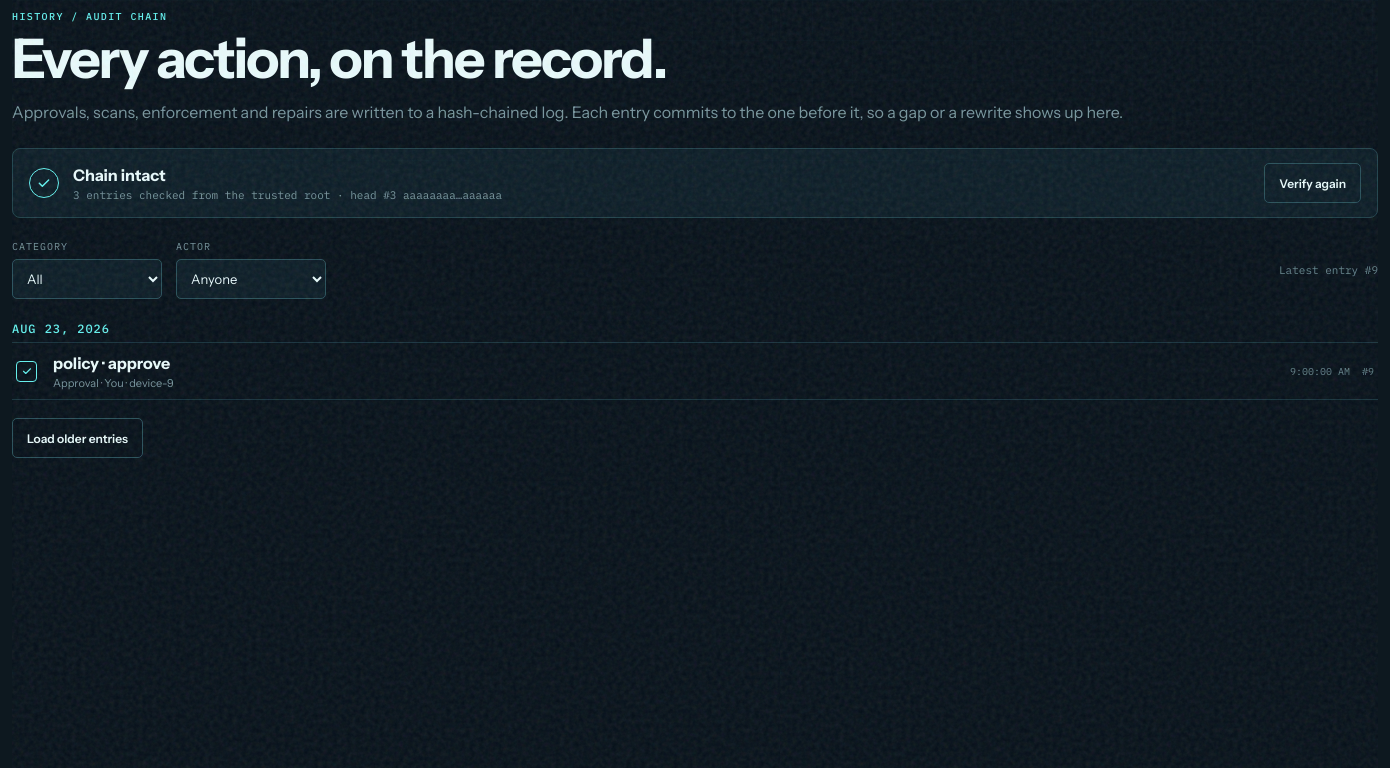
HistoryView › pages older entries with the cursor and keeps the filter
Click the button "Load older entries". click: (78, 438)
box: top-left (12, 418), bottom-right (143, 458)
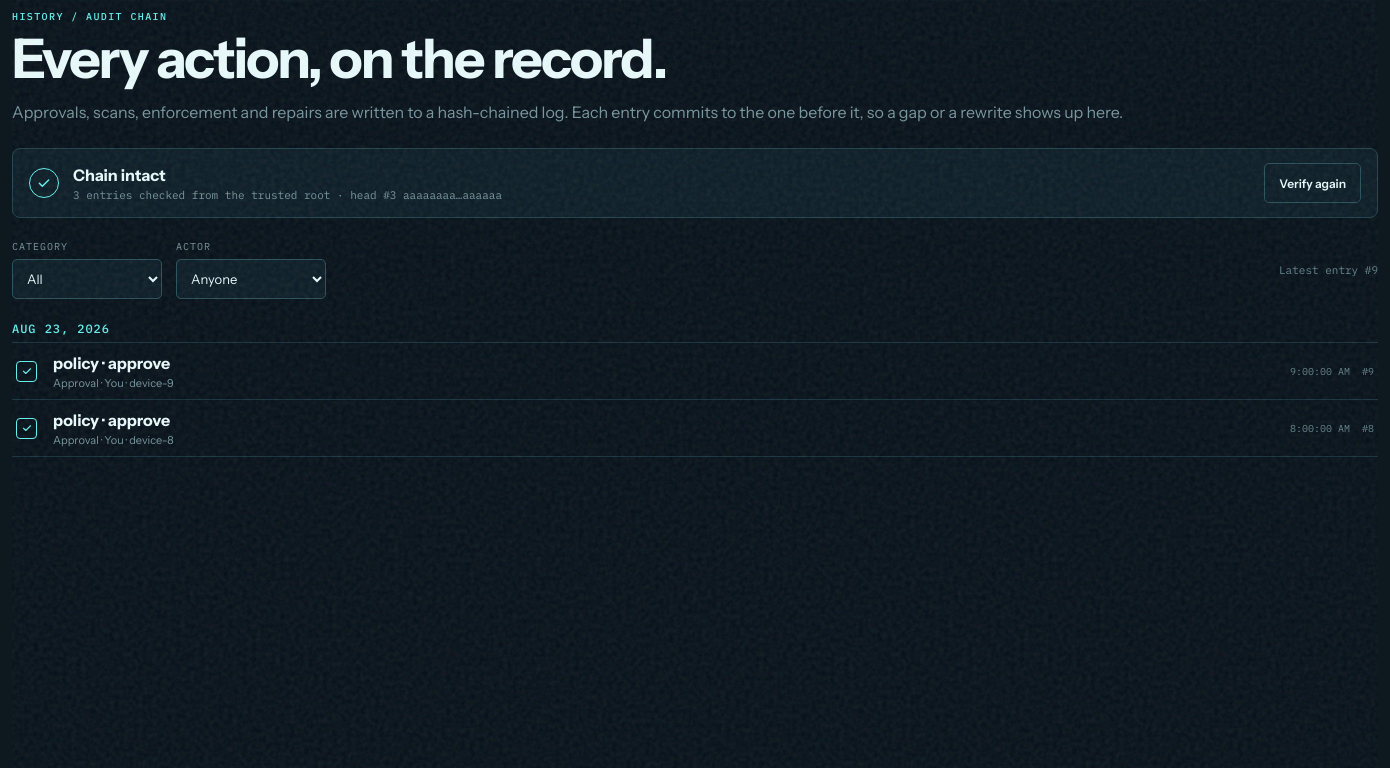
Expected: the number of list items with class "audit-row" is 2, top-left (12, 343), bottom-right (1378, 400); top-left (12, 400), bottom-right (1378, 457)
